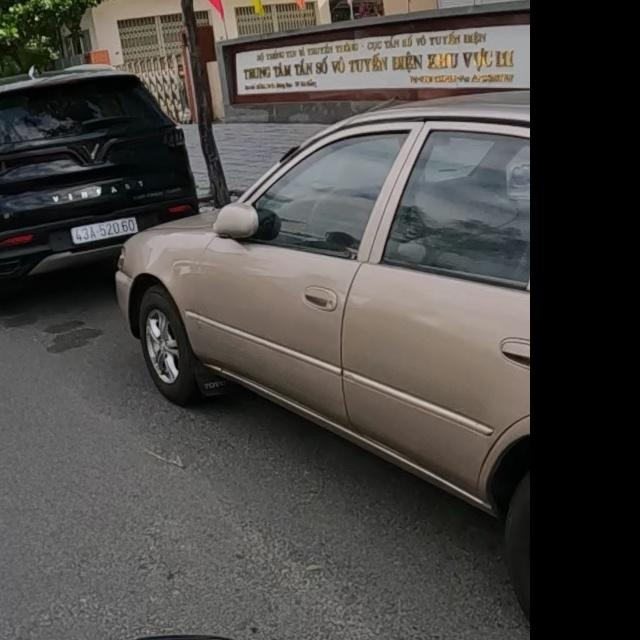license-plate: (70, 217, 139, 245)
